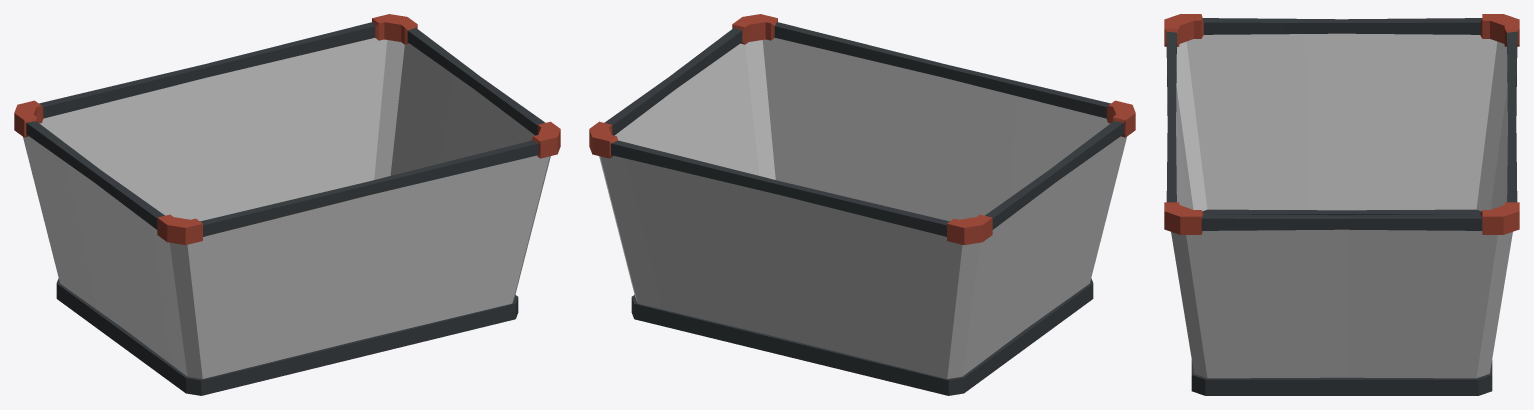
File: SM_Prop_ShoppingBasket_01.obj
3 renders of one model, left to right at view 1: azimuth 30°, elevation 25°; view 2: azimuth 150°, elevation 25°; view 3: azimuth 270°, elevation 25°, orthographic. The views are drawn at different scales.
Visible parts, largest first — view 1: SM_Prop_ShoppingBasket_01_0, SM_Prop_ShoppingBasket_01_1; view 2: SM_Prop_ShoppingBasket_01_0, SM_Prop_ShoppingBasket_01_1; view 3: SM_Prop_ShoppingBasket_01_0, SM_Prop_ShoppingBasket_01_1.
Part boxes in pixels (<box>): SM_Prop_ShoppingBasket_01_0: <box>23,38,550,378</box>; SM_Prop_ShoppingBasket_01_1: <box>14,14,560,395</box>; SM_Prop_ShoppingBasket_01_0: <box>599,38,1126,378</box>; SM_Prop_ShoppingBasket_01_1: <box>589,14,1135,395</box>; SM_Prop_ShoppingBasket_01_0: <box>1171,33,1512,378</box>; SM_Prop_ShoppingBasket_01_1: <box>1164,14,1519,395</box>.
Bounding box in the file's own units: 0.678 × 0.304 × 0.5024.
